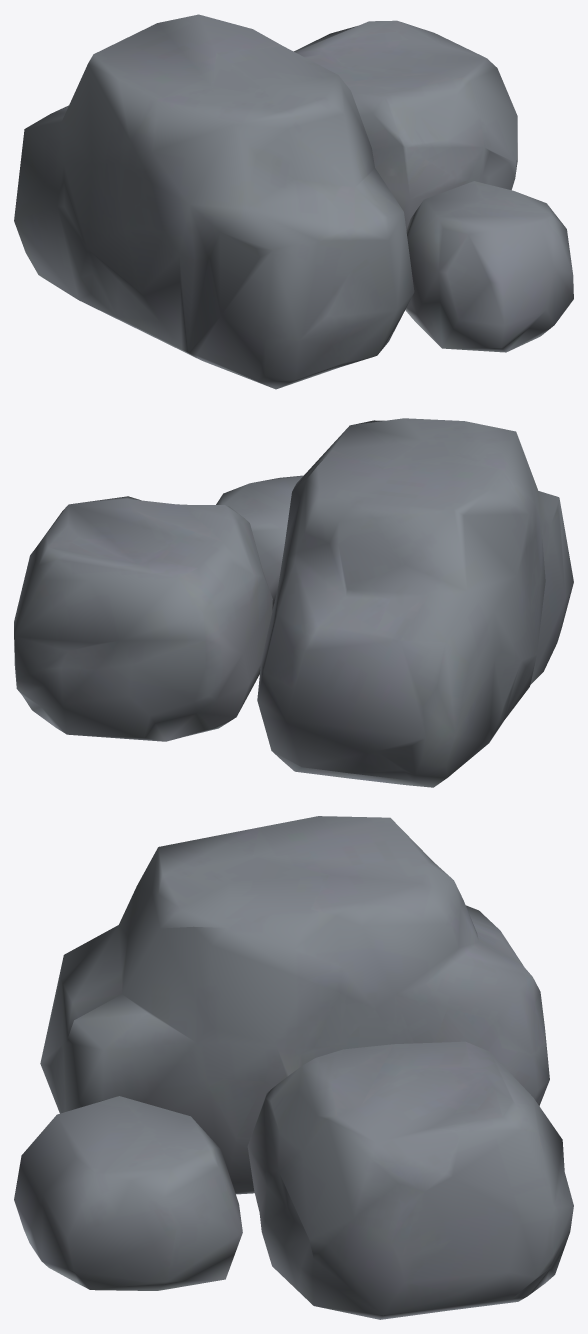
Rendered from rock-b.glb.
The picture shows the model from 3 angles, top to bottom: view 1: azimuth 30°, elevation 25°; view 2: azimuth 150°, elevation 25°; view 3: azimuth 270°, elevation 25°; orthographic projection. The views are drawn at different scales.
Parts seen in each view (by area): view 1: tripo_node_63272007-e49c-4cca-b272-6267a111fed5; view 2: tripo_node_63272007-e49c-4cca-b272-6267a111fed5; view 3: tripo_node_63272007-e49c-4cca-b272-6267a111fed5.
Boxes of the visible parts, x1,y1,x2,y2 form: tripo_node_63272007-e49c-4cca-b272-6267a111fed5: (14,14,573,389); tripo_node_63272007-e49c-4cca-b272-6267a111fed5: (14,418,573,787); tripo_node_63272007-e49c-4cca-b272-6267a111fed5: (14,816,573,1319).
Size of the model in its own units: 1 by 0.5227 by 0.9349.
1 material, 1 textured.
